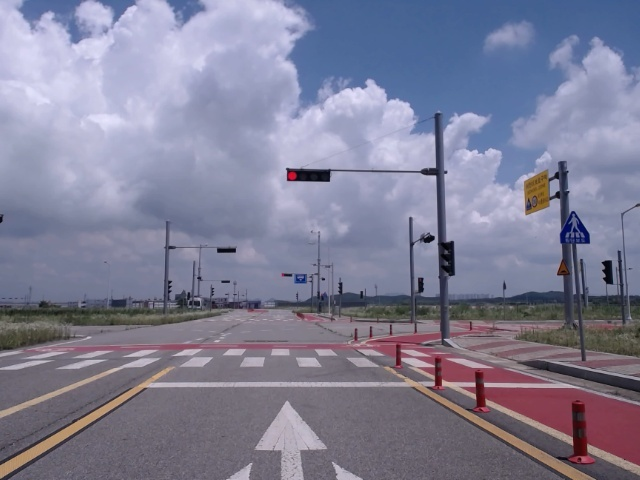red_4: (287, 169, 330, 182)
